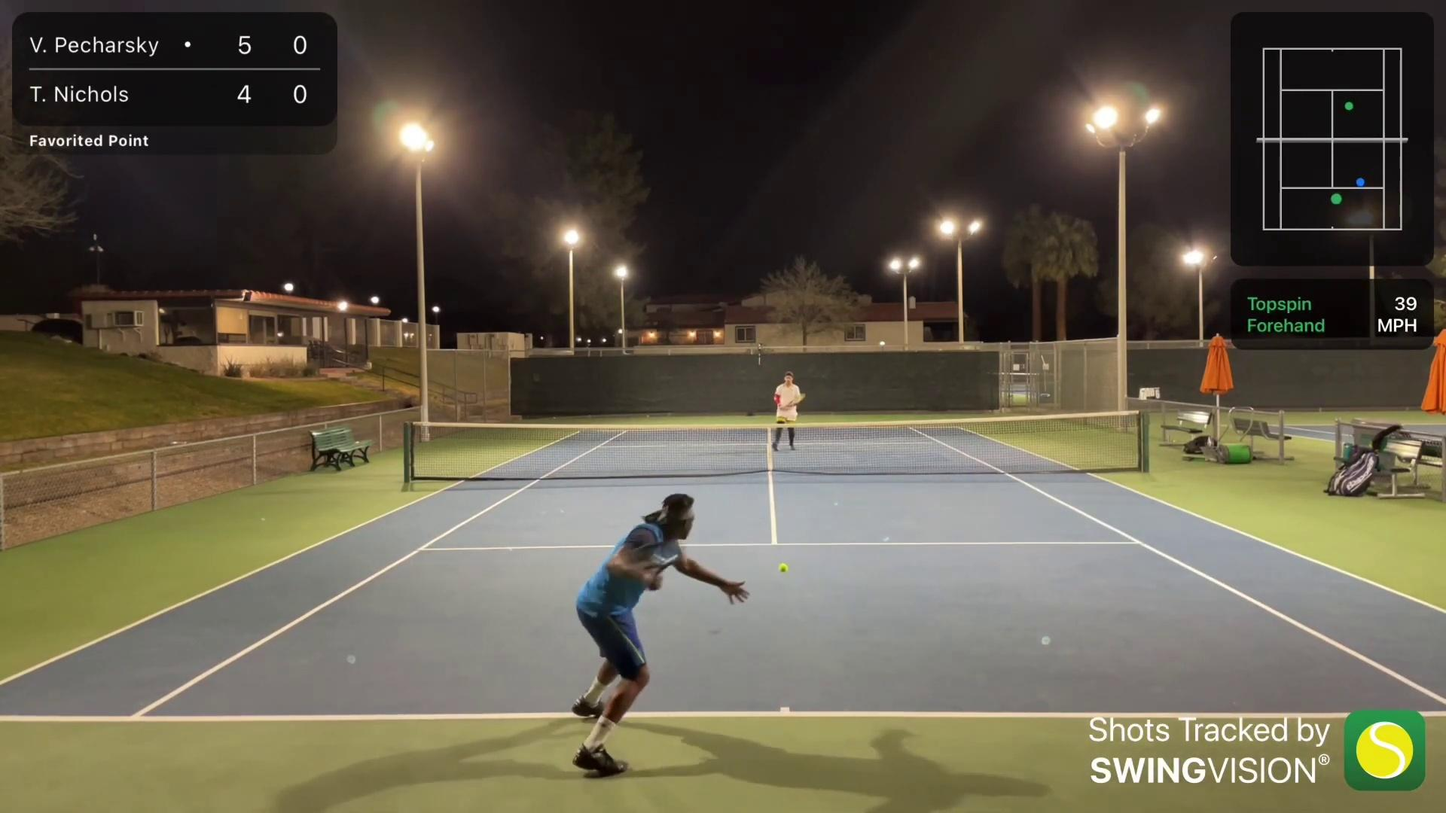ball: (782, 567, 791, 579)
